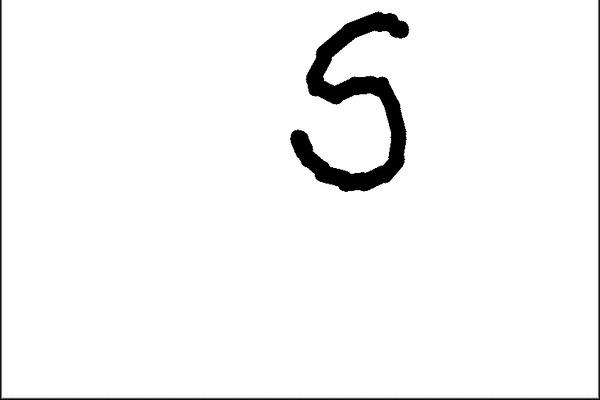S: (282, 2, 428, 203)
